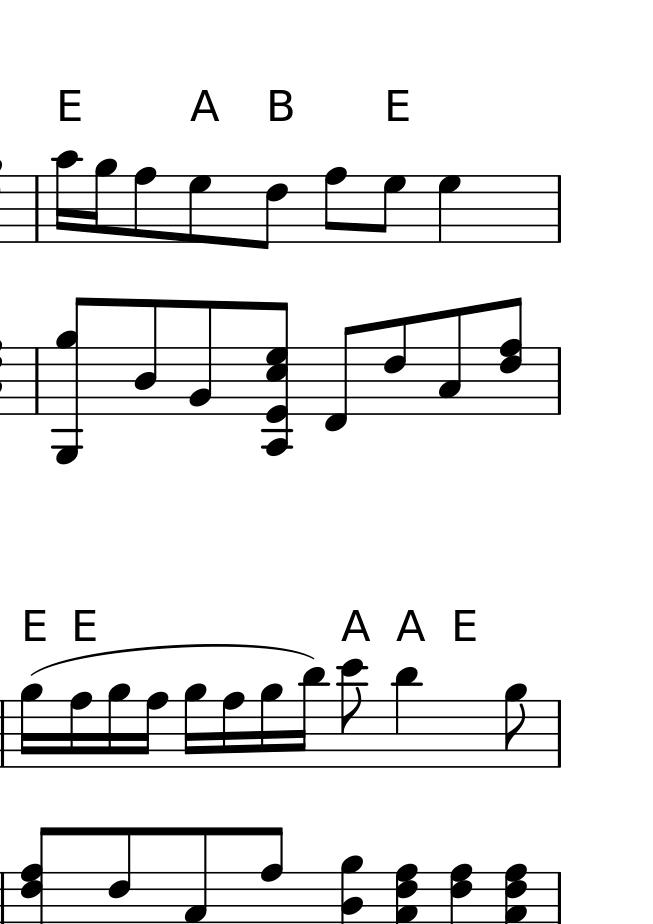16_10: (51, 149, 81, 245)
16_11: (293, 667, 330, 771)
16_8: (136, 691, 170, 769), (221, 690, 245, 769), (69, 691, 91, 770)
16_9: (86, 157, 118, 244), (257, 683, 284, 771), (181, 681, 207, 769), (19, 682, 43, 768), (107, 682, 130, 769)
4_11: (392, 667, 422, 769)
4_7: (436, 175, 462, 245)
8_-1: (323, 324, 359, 435)
8_-5_9: (49, 296, 92, 464)
8_12: (337, 659, 367, 769)
8_2: (186, 299, 213, 417)
8_3: (437, 307, 464, 417)
8_4: (132, 299, 159, 415)
8_6: (381, 317, 408, 416), (257, 174, 289, 250)
8_7: (376, 173, 407, 244), (188, 174, 213, 246)
8_8: (322, 165, 349, 244), (133, 166, 158, 243)
8_9: (503, 682, 529, 771)
Single_barline: (550, 346, 567, 415), (550, 700, 567, 768), (28, 347, 45, 414), (550, 175, 567, 241), (29, 176, 44, 242), (550, 872, 567, 923), (1, 699, 11, 768), (1, 872, 11, 922)
